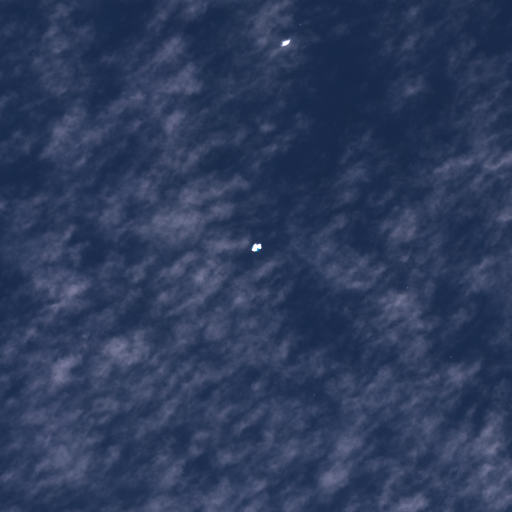Iceberg: (251, 243, 261, 251), (281, 38, 290, 46), (299, 24, 300, 25), (407, 287, 408, 288), (450, 356, 451, 357)
